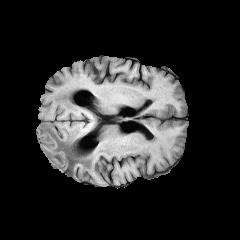glioma: (38, 90, 113, 175)
